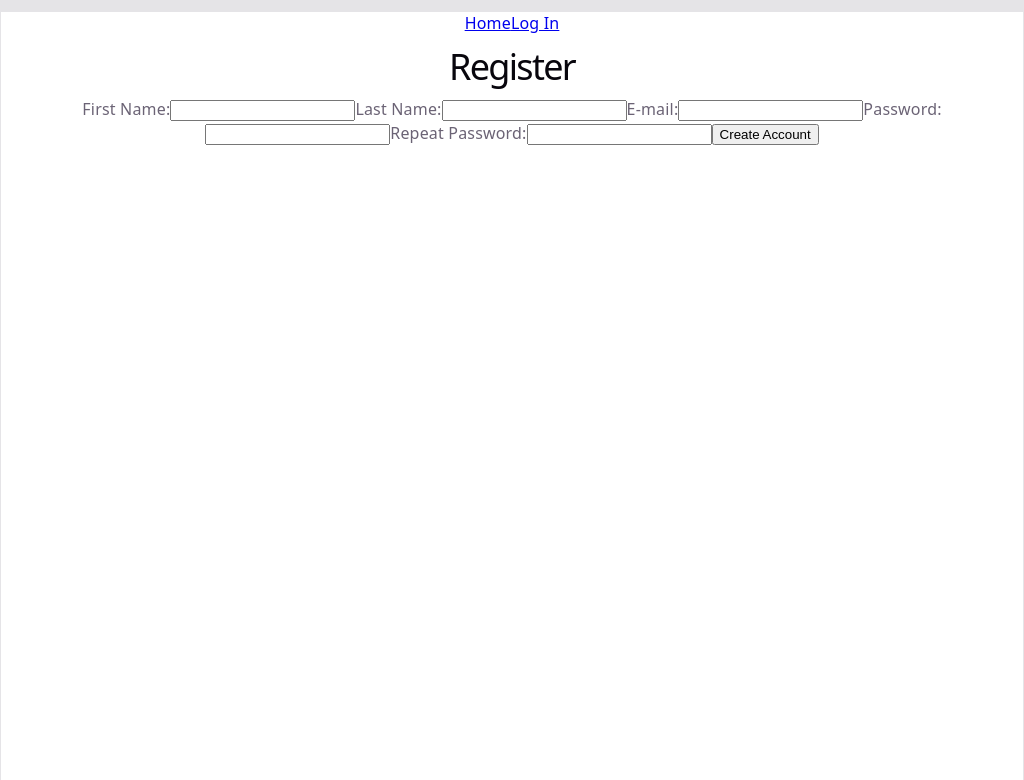
Scenario: shows an error returned by the backend
Type "Test" into the field labelled "First Name:" at [263, 111], box [170,100,355,121]
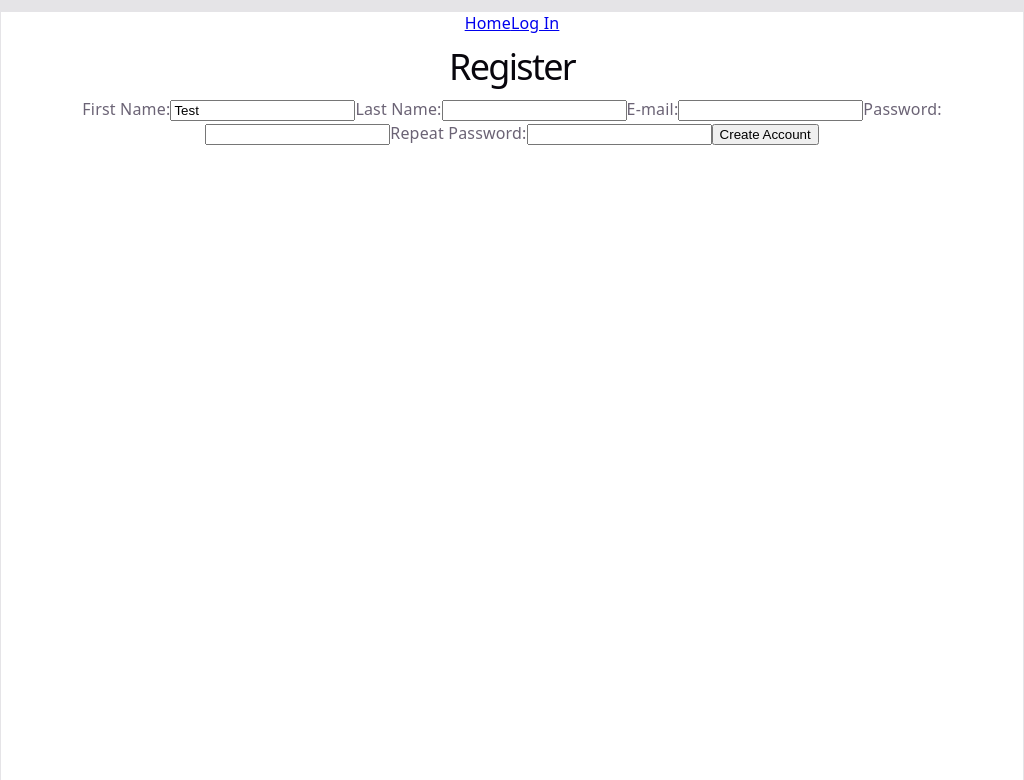
Type "User" into the field labelled "Last Name:" at [534, 111], box [442,100,627,121]
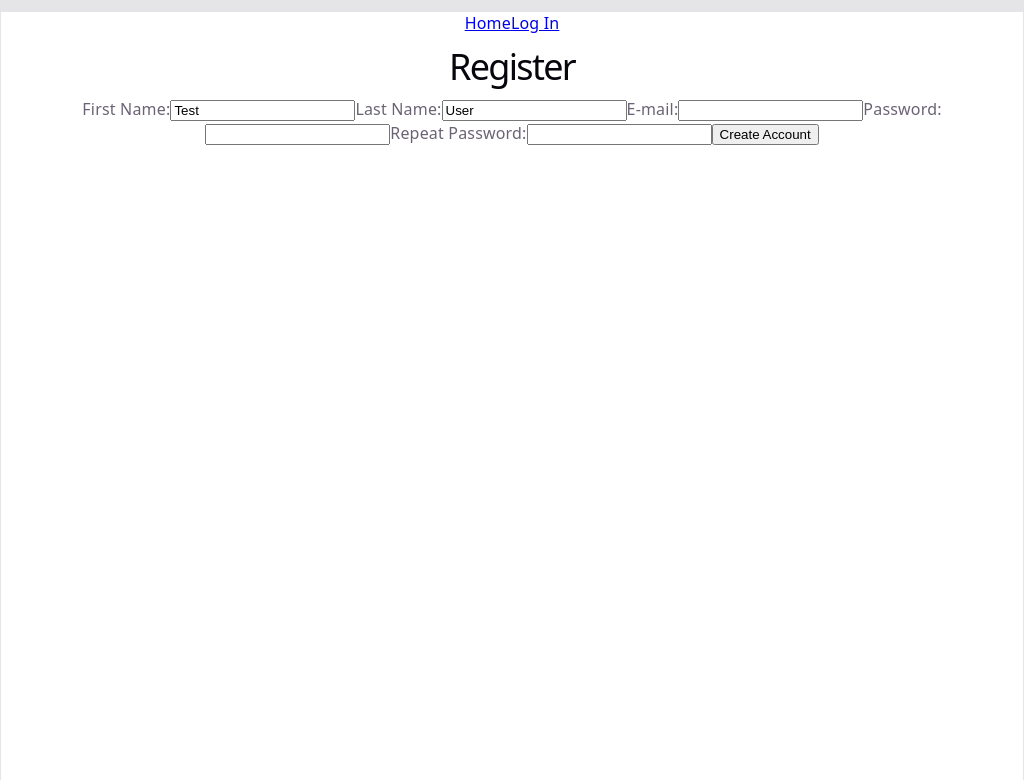
Type "test@example.com" into the field labelled "E-mail:" at [771, 111], box [678,100,863,121]
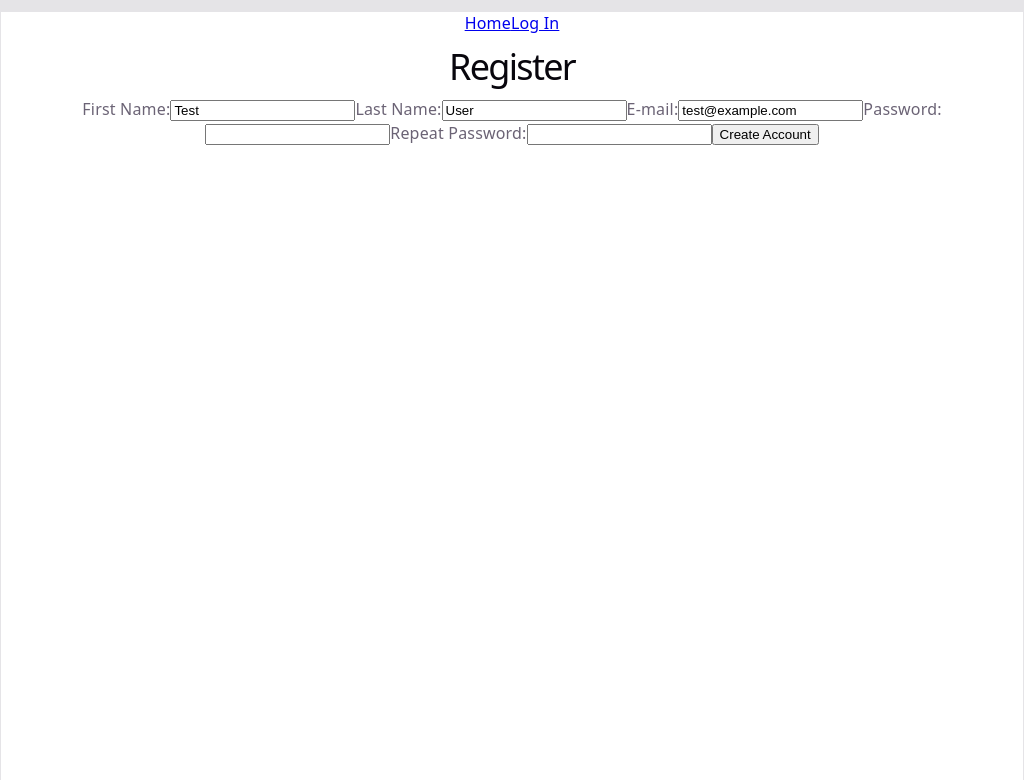
Type "correct-password" into the password field labelled "Password:" at [298, 134], box [205,124,390,145]
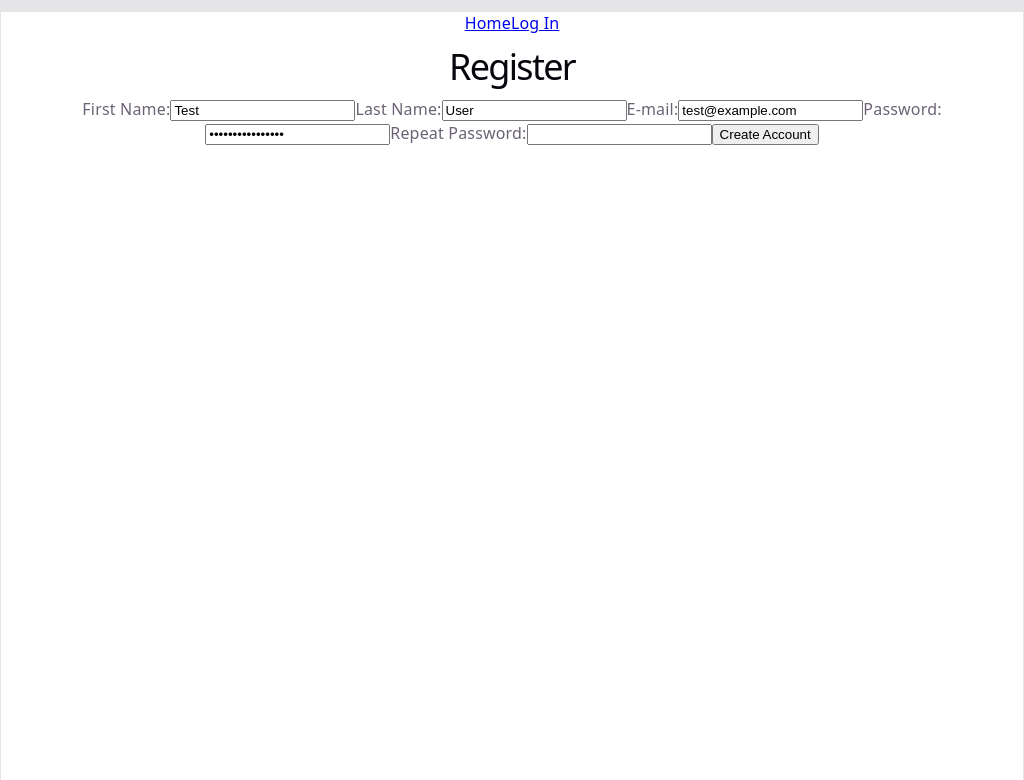
Type "correct-password" into the password field labelled "Repeat Password:" at [619, 134], box [527,124,712,145]
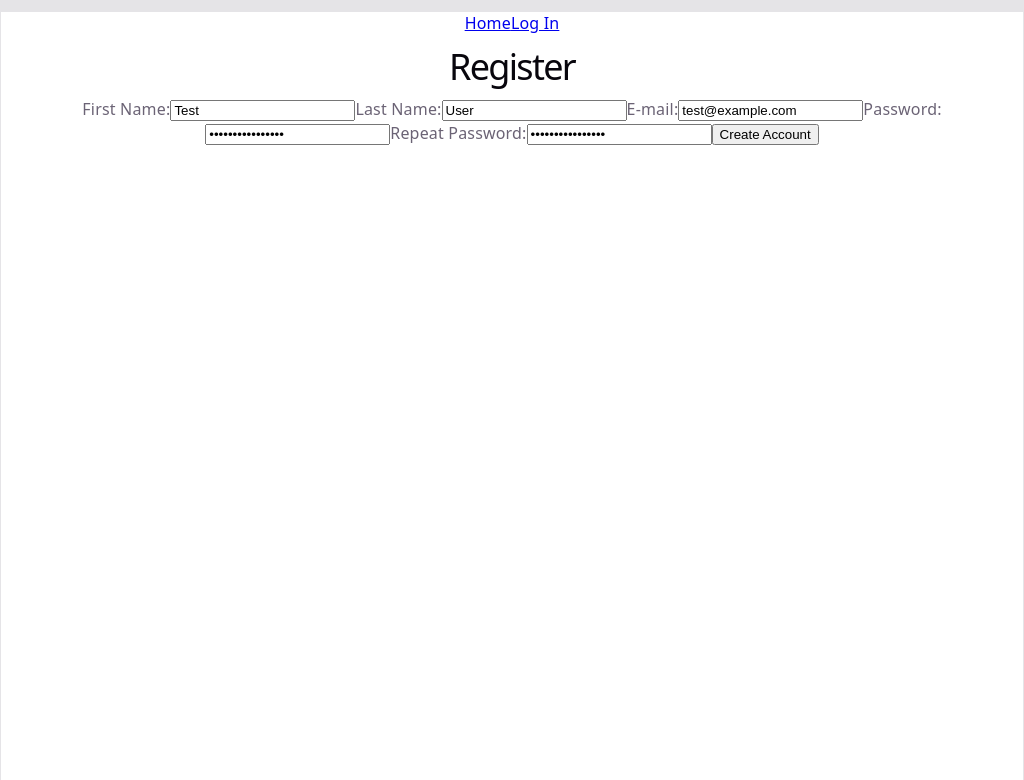
Click the button "Create Account" at [765, 134], box [712,124,819,145]
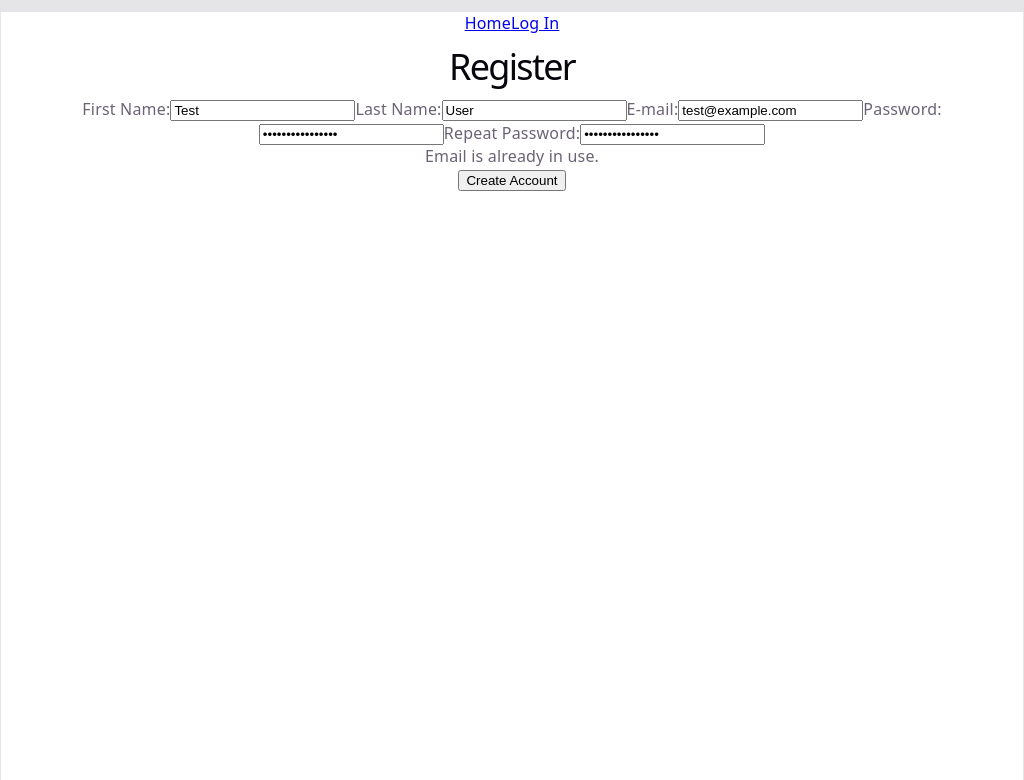
Check: the message reads "Email is already in use.", box [425,145,599,167]
